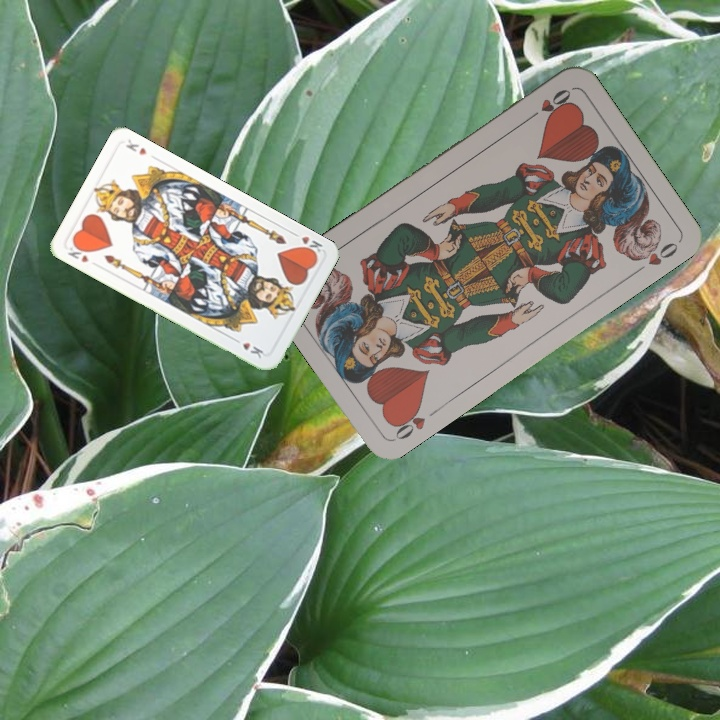HK: (295, 232, 325, 258), (64, 240, 92, 265)
HO: (522, 84, 574, 124), (387, 401, 428, 443)
